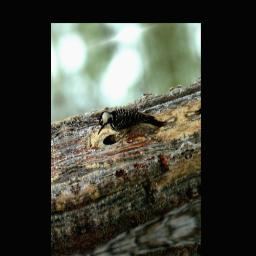Woodpecker: (91, 87, 174, 157)
